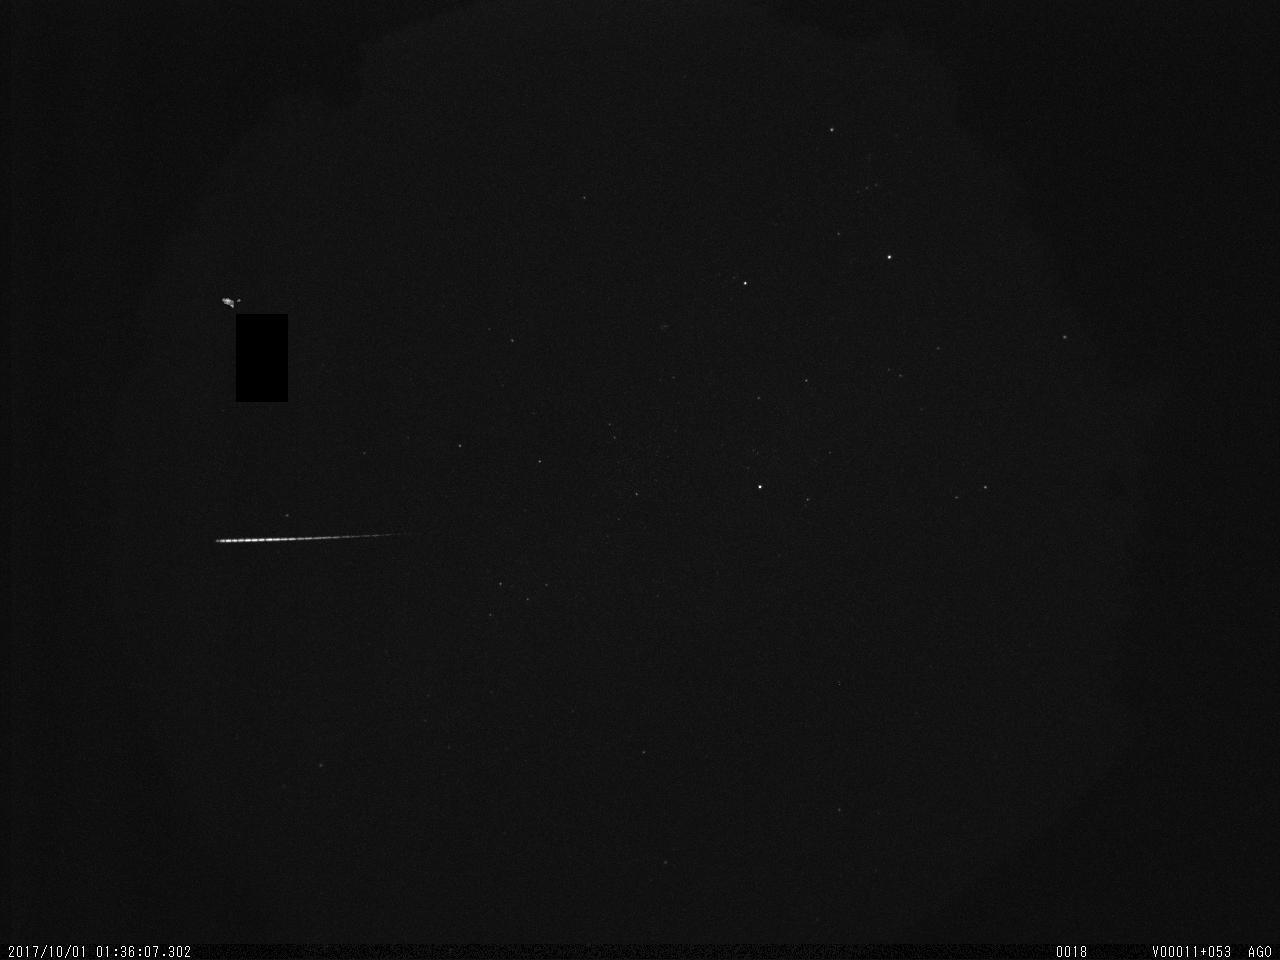TLE: (209, 280, 256, 322)
